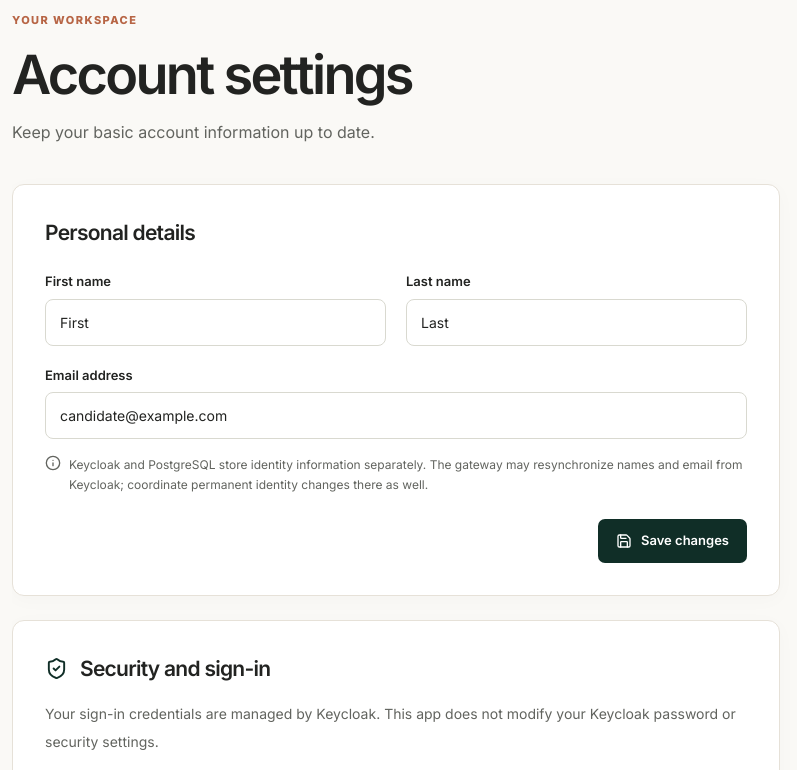
Test: account view through the injected controller › saves validated values through the application and refreshes the account
Check: the field showing "candidate@example.com" is shown, box [45, 392, 747, 439]
Replace the text in the field labelled "First name" with "Updated" at (216, 322), box [45, 299, 386, 346]
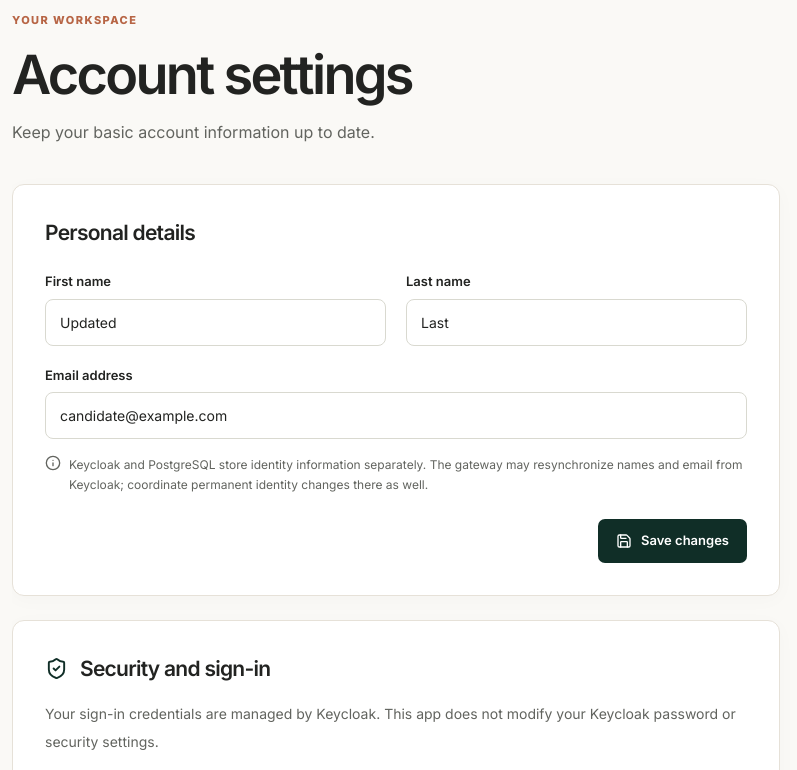
Submit the form named "Save changes", box [12, 184, 780, 596]
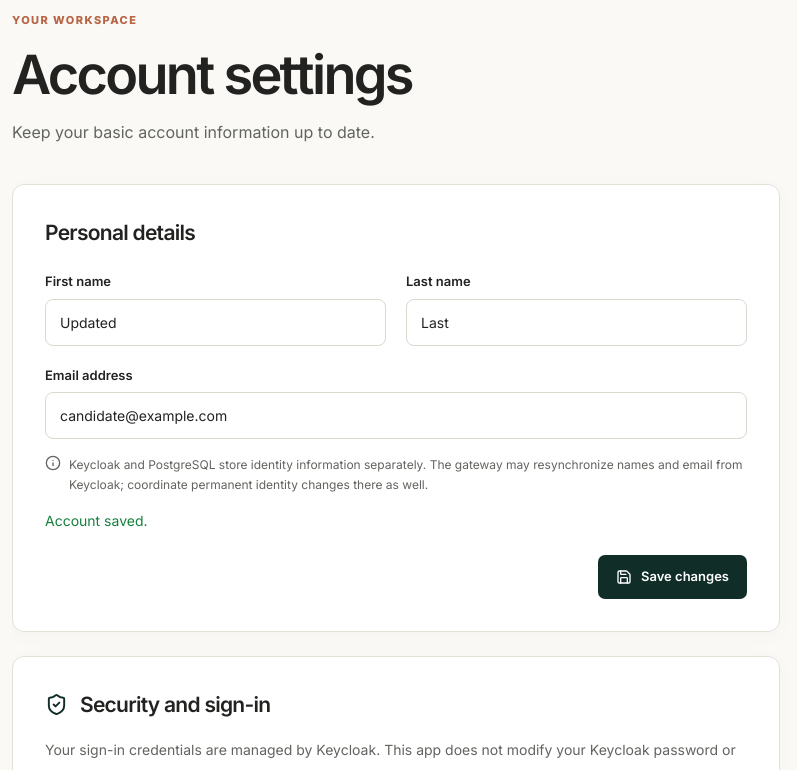
Check: the text "Account saved." is shown, box [45, 512, 148, 529]
